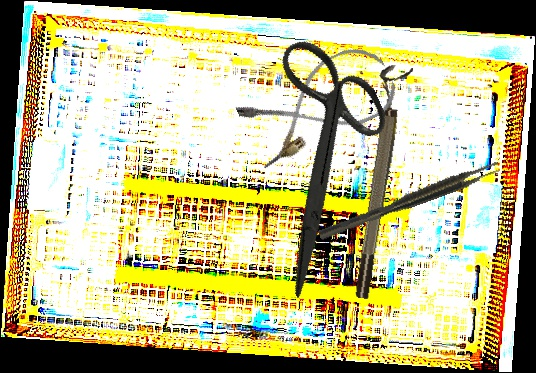Cannula: (233, 37, 404, 171)
Fixation Ring: (340, 63, 414, 300)
Iris Scissors: (201, 20, 440, 299)
Tissue Forceps: (316, 159, 502, 241)
